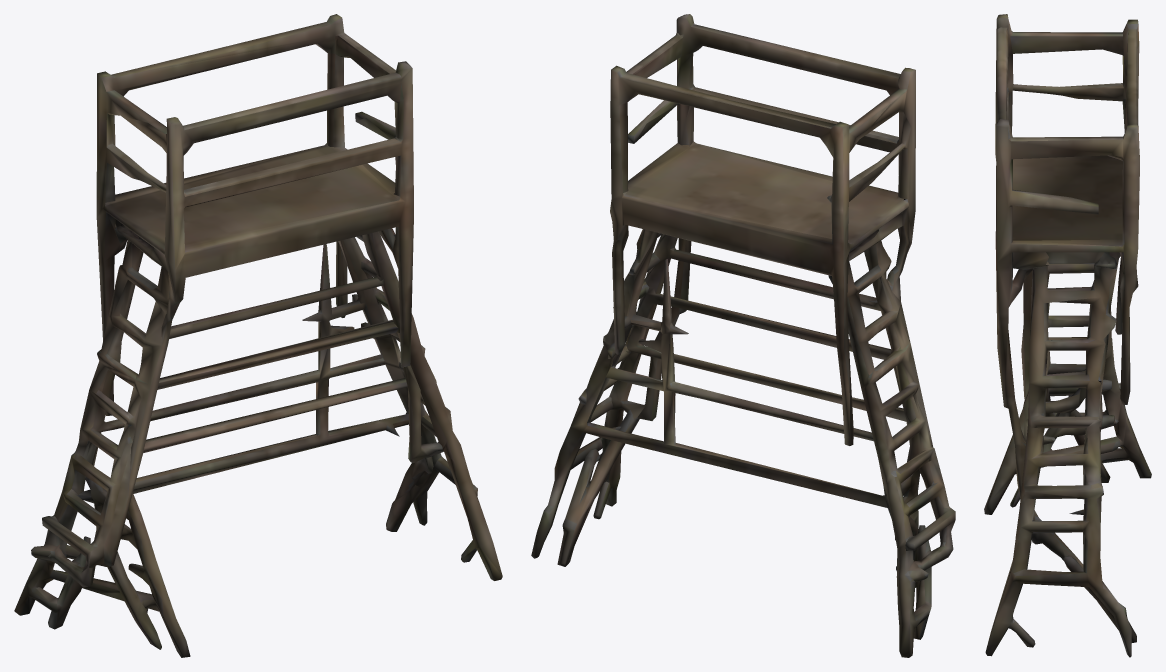
Rendered from old-wood-scaffold-tower-v001.glb.
3 views of the same model, side by side, from view 1: azimuth 30°, elevation 25°; view 2: azimuth 150°, elevation 25°; view 3: azimuth 270°, elevation 25° (orthographic). The views are drawn at different scales.
Parts seen in each view (by area): view 1: old-wood-scaffold-tower; view 2: old-wood-scaffold-tower; view 3: old-wood-scaffold-tower.
Boxes of the visible parts, bbox=[...] form: old-wood-scaffold-tower: bbox=[14, 14, 502, 657]; old-wood-scaffold-tower: bbox=[531, 14, 955, 657]; old-wood-scaffold-tower: bbox=[984, 14, 1151, 657].
Size of the model in its own units: 2.26 by 2.86 by 0.8744.
Materials: 1 (1 with a texture image).
